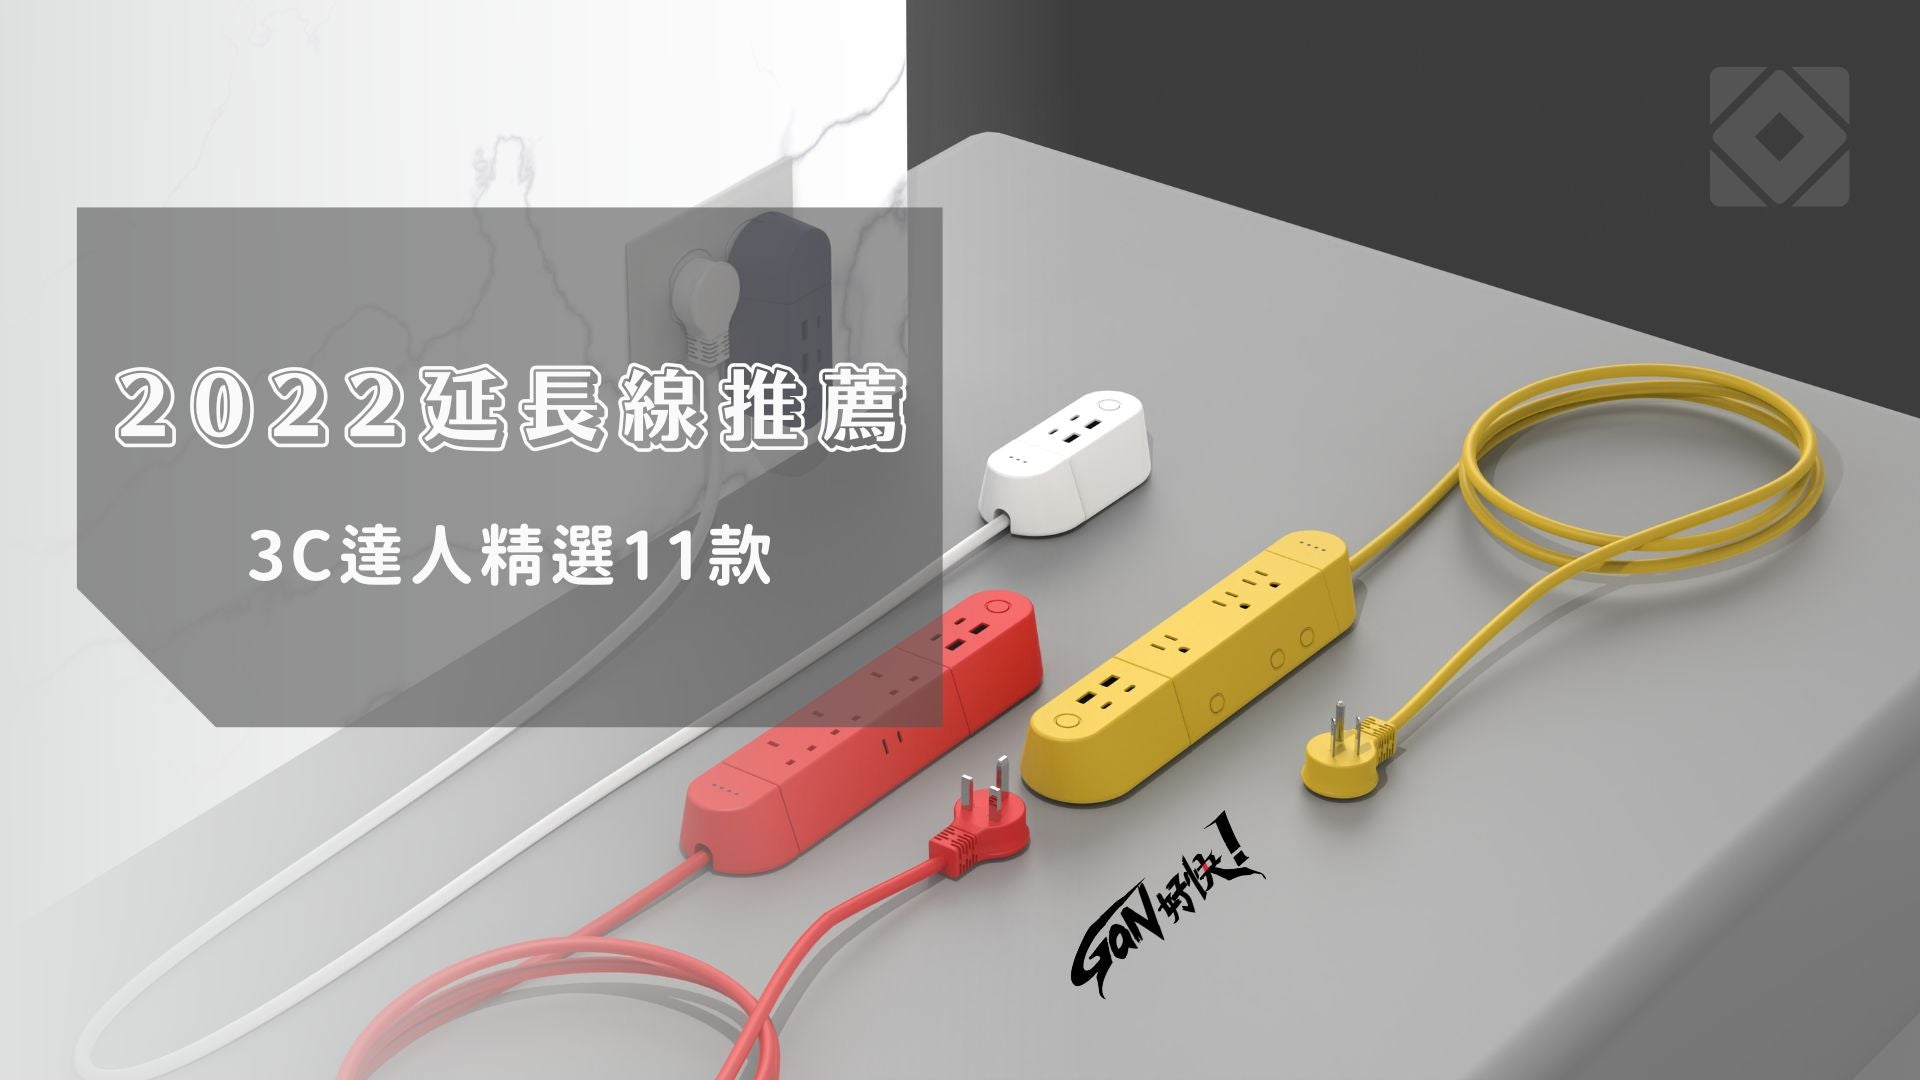socket: (61, 249, 1155, 1073), (1018, 367, 1828, 806), (328, 585, 1040, 1075)
